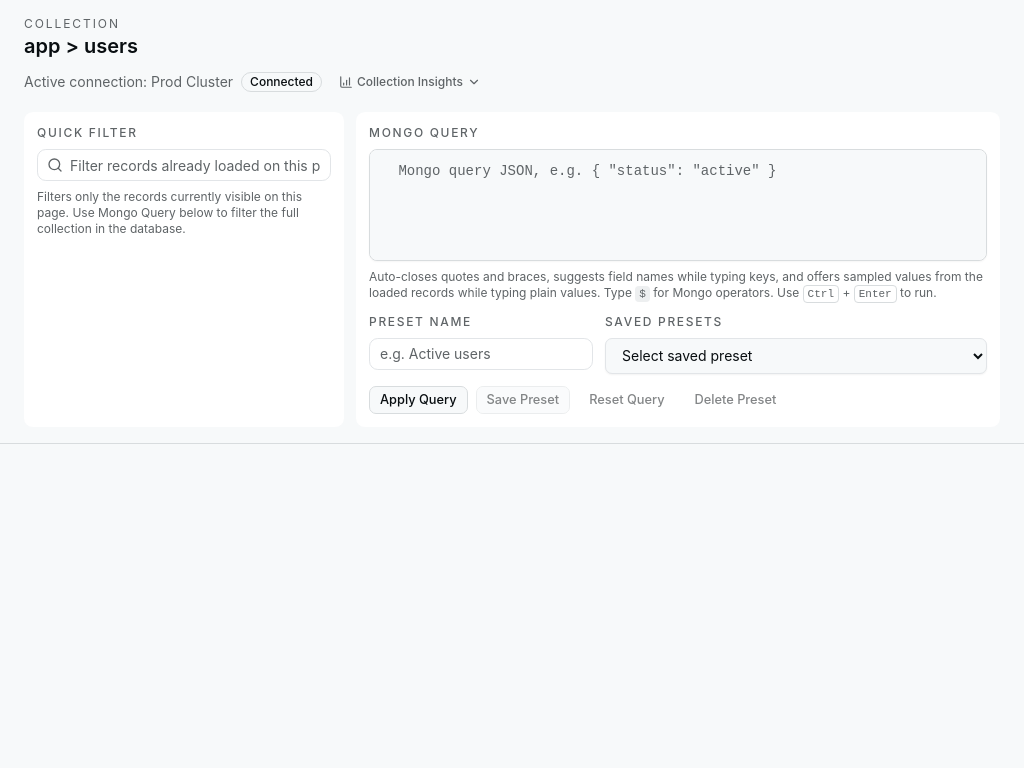
Test: ViewerHeader › shows insights only when the header toggle is opened
Check: the text "Collection Stats" is not shown
Click the button "Collection Insights".
click(410, 82)  # box 330,68 -> 490,96
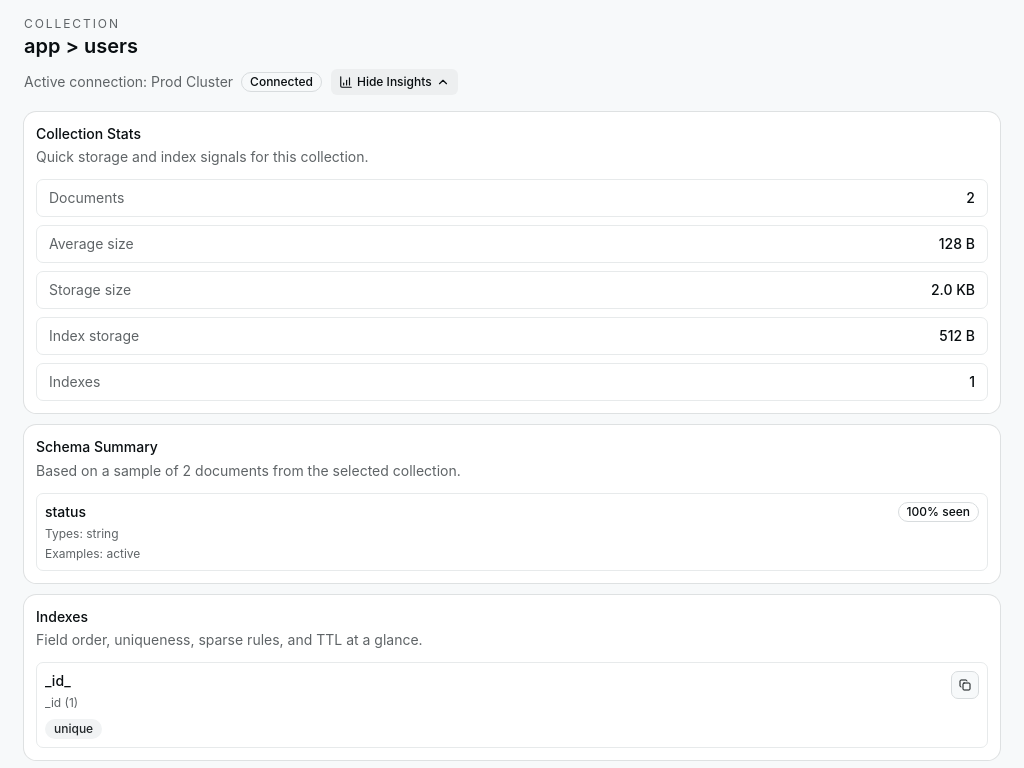
Check: the text "Collection Stats" is shown, box 36,125 -> 141,142
Check: the text "Schema Summary" is shown, box 36,438 -> 158,455
